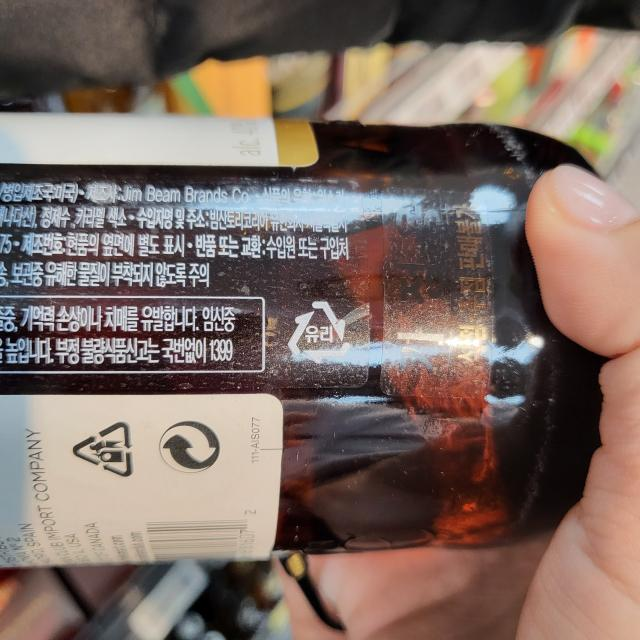Glass: (287, 294, 352, 366)
